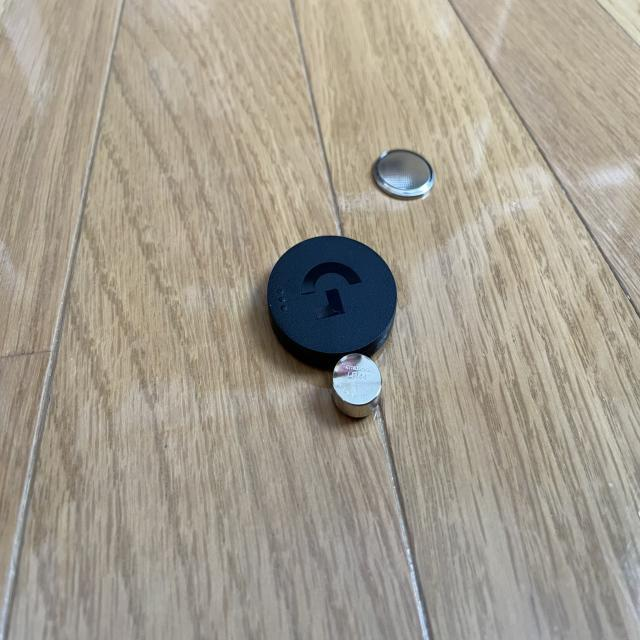COIN: (330, 352, 382, 420), (372, 149, 434, 199)
